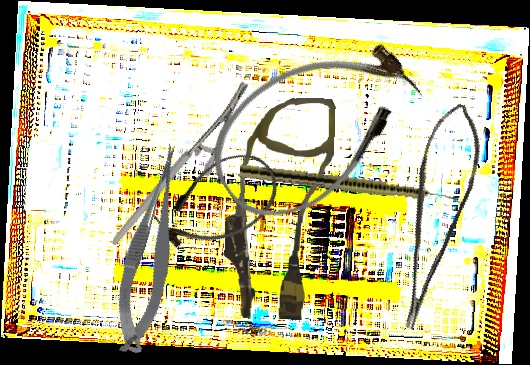Cannula: (189, 13, 440, 243), (222, 95, 336, 321), (144, 139, 292, 267)
Handpiece: (238, 163, 467, 208)
Micro Scissor: (363, 97, 499, 333), (97, 139, 208, 360)
Needle Holder: (74, 79, 285, 246)
